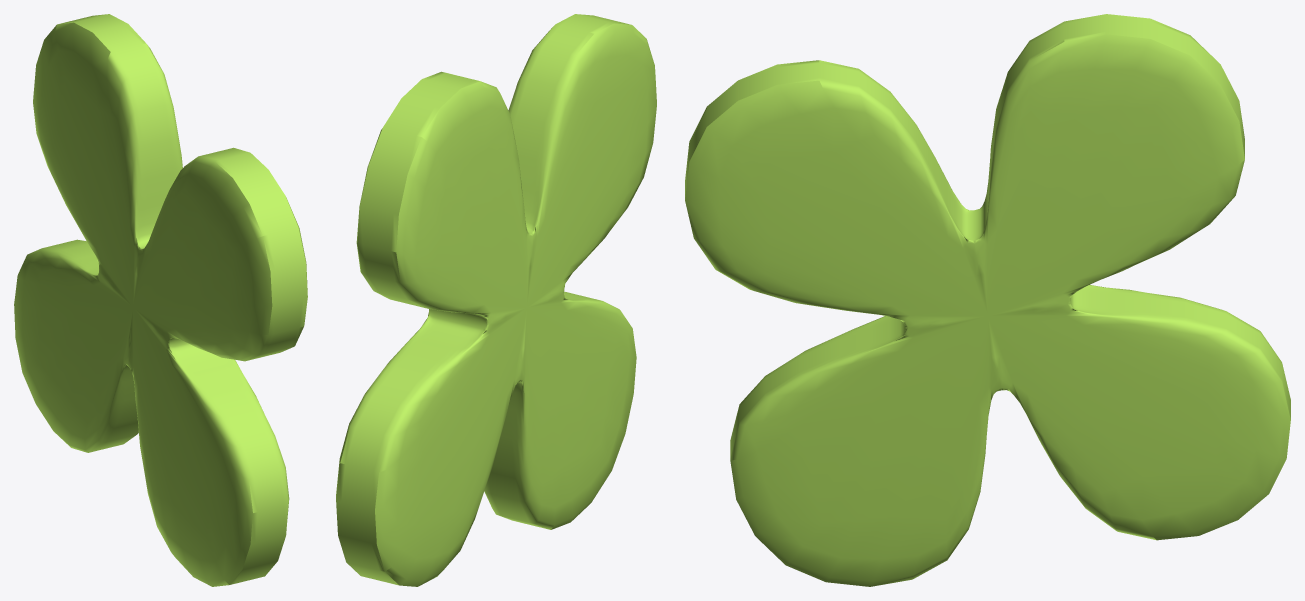
File: decor2.glb
The picture shows the model from 3 angles, left to right: view 1: azimuth 30°, elevation 25°; view 2: azimuth 150°, elevation 25°; view 3: azimuth 270°, elevation 25°; orthographic projection. The views are drawn at different scales.
Bounding box in the file's own units: 0.027 × 0.2183 × 0.2169.
